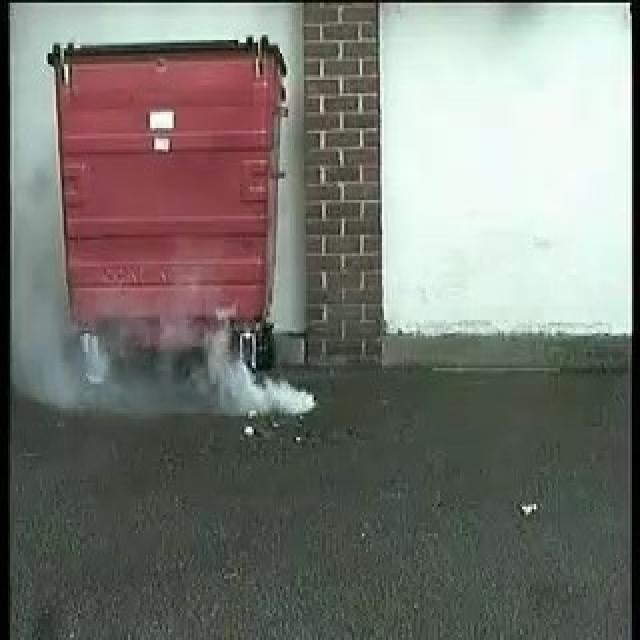smoke: (38, 333, 312, 417)
